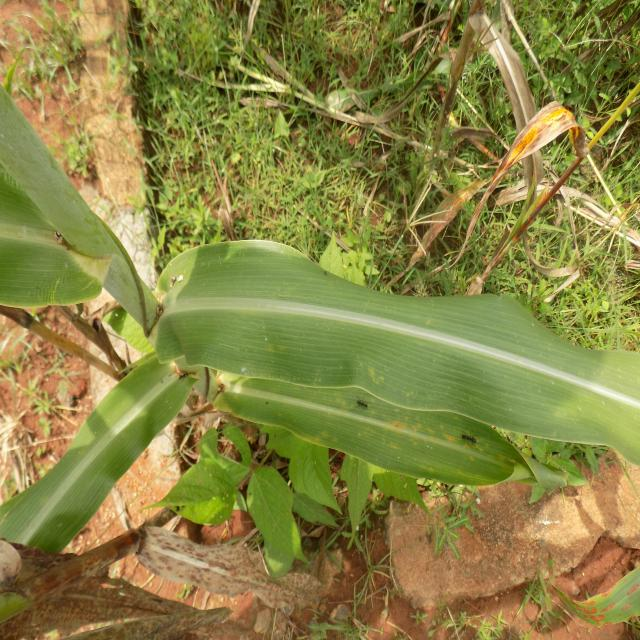millet_healthy: (160, 237, 640, 466), (0, 355, 193, 552)
